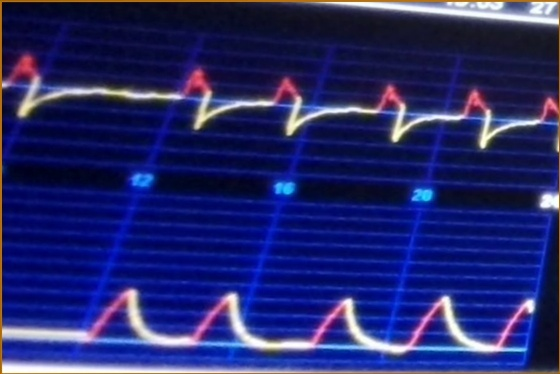Accumulation Flow: (2, 44, 558, 153)
Volume: (3, 265, 531, 359)
